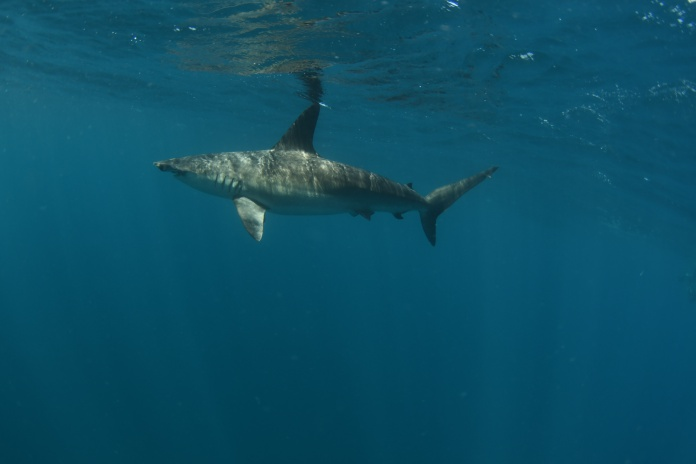Hammer: (147, 91, 509, 270)
